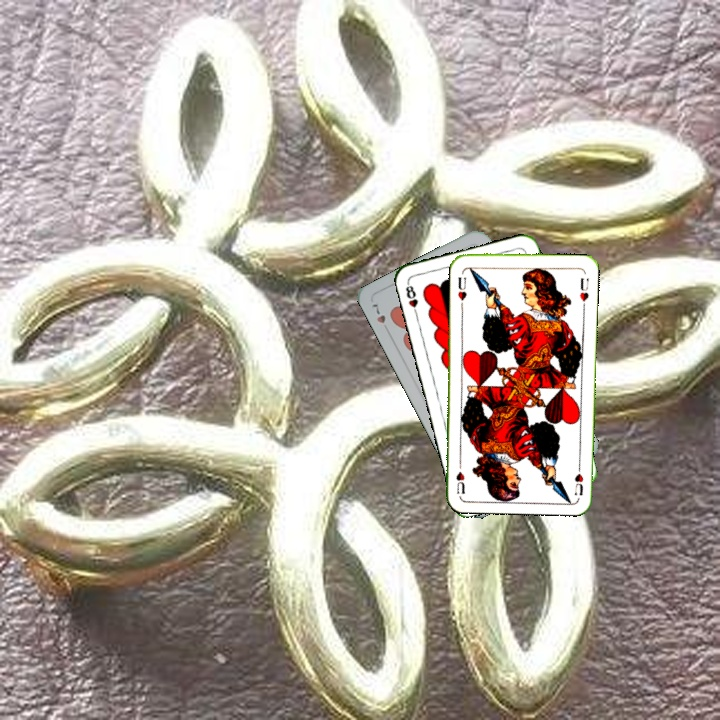H7: (367, 300, 393, 335)
H8: (401, 279, 421, 319)
HU: (570, 458, 586, 498), (454, 273, 469, 303)
